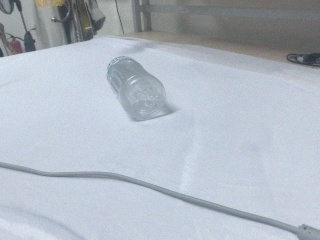bottle: (105, 54, 177, 123)
